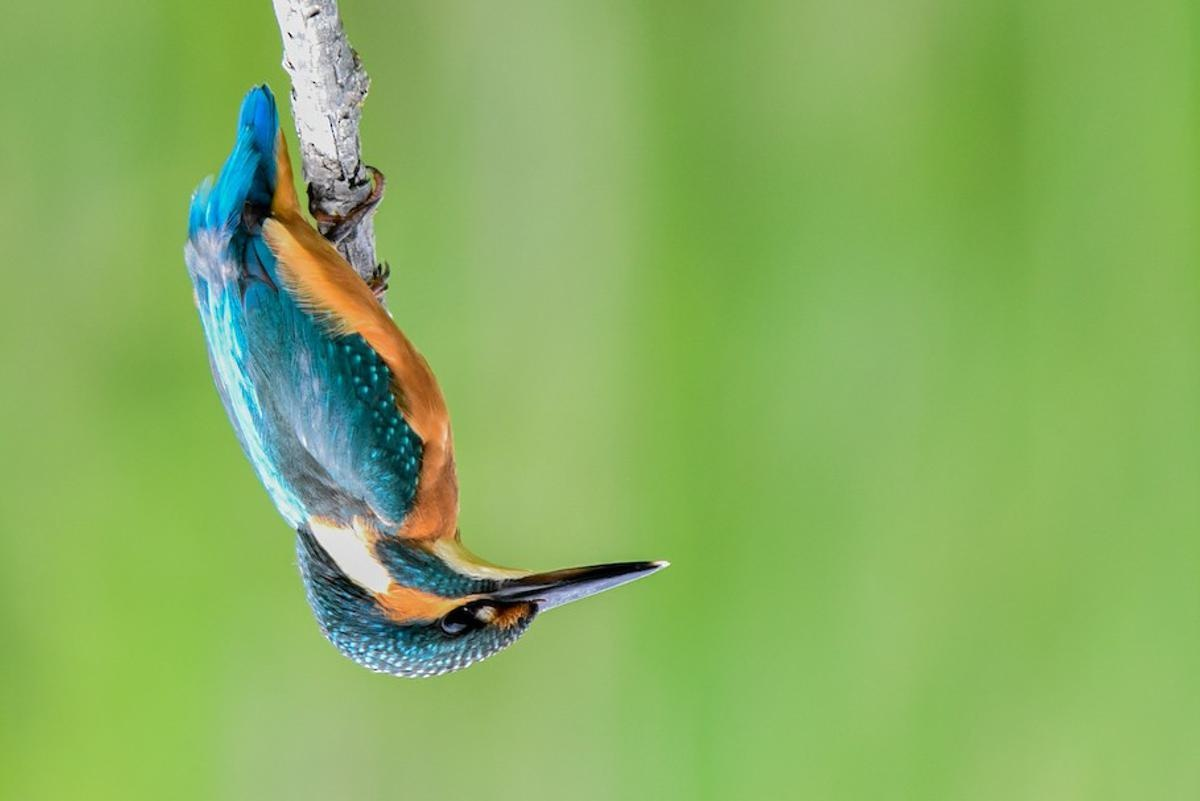kingfisher: (160, 105, 673, 690)
